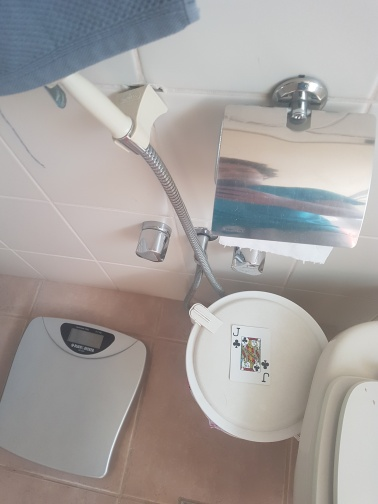jack: (230, 322, 276, 384)
